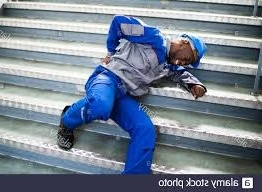fall: (53, 7, 211, 171)
